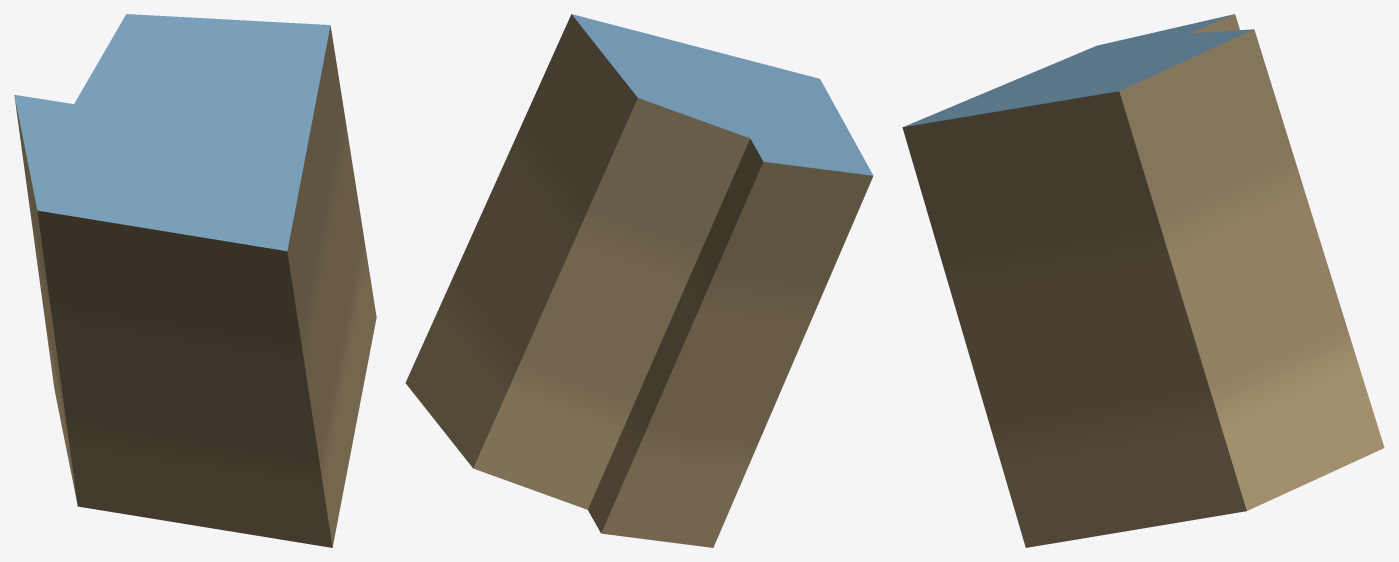
File: 063b_Cape_Verde.glb
3 views of the same model, side by side, from view 1: azimuth 30°, elevation 25°; view 2: azimuth 150°, elevation 25°; view 3: azimuth 270°, elevation 25° (orthographic). The views are drawn at different scales.
Parts seen in each view (by area): view 1: part_0; view 2: part_0; view 3: part_0.
Boxes of the visible parts, left/top/right/bottom form: part_0: left=14, top=14, right=376, bottom=547; part_0: left=405, top=14, right=873, bottom=547; part_0: left=902, top=14, right=1384, bottom=547.
Bounding box in the file's own units: 0.2165 × 0.2387 × 0.218.
Materials: 1 (1 with a texture image).
